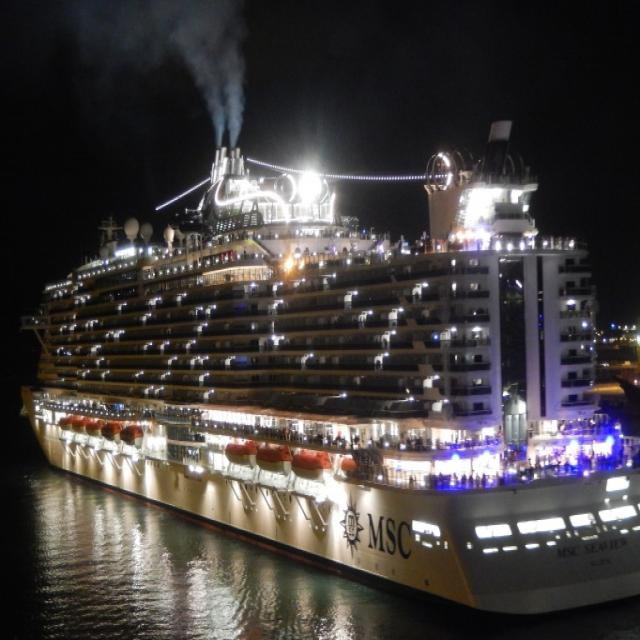cruises: (18, 116, 640, 627)
